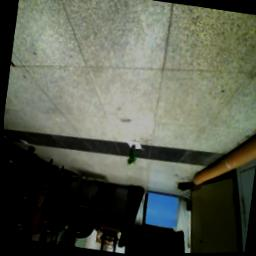wild: (125, 144, 139, 168)
